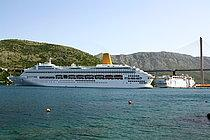Ship: (18, 51, 157, 91), (159, 72, 201, 91)
